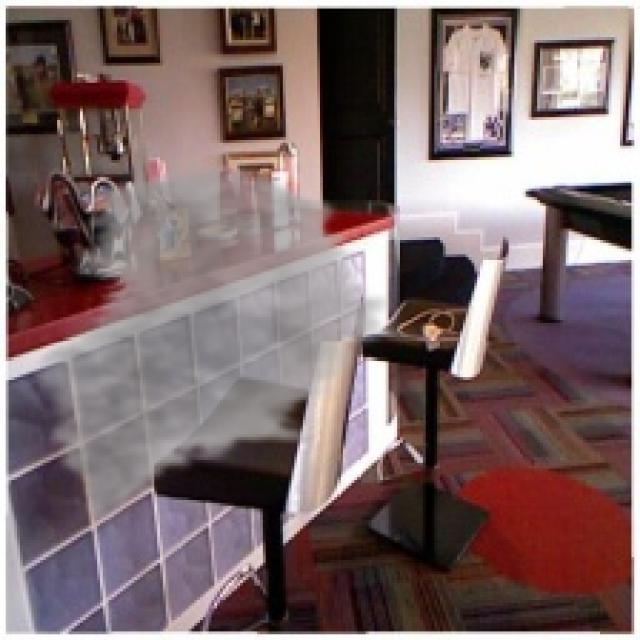Smoke: (23, 160, 400, 526)
